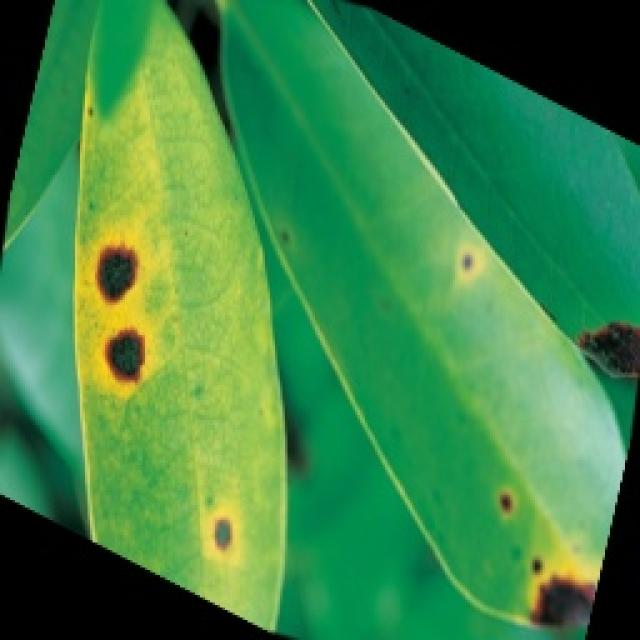Tar_Spot: (0, 0, 638, 638), (61, 183, 180, 411), (497, 471, 640, 640)
